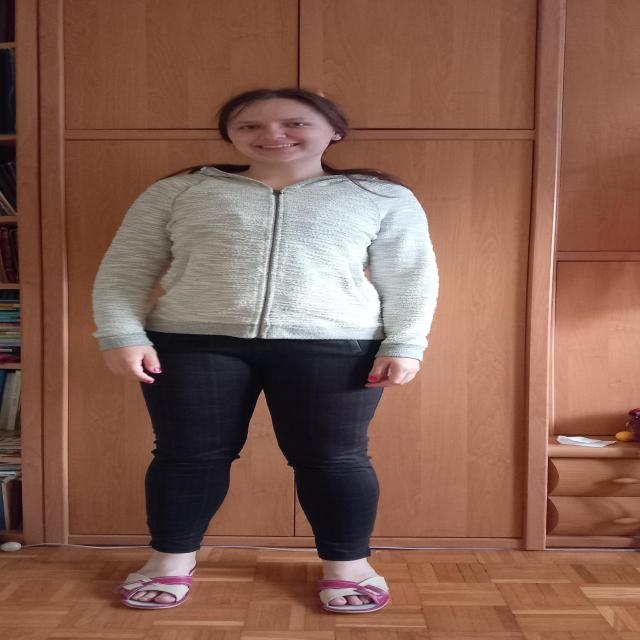pants: (136, 331, 388, 561)
sweater: (93, 165, 440, 361)
